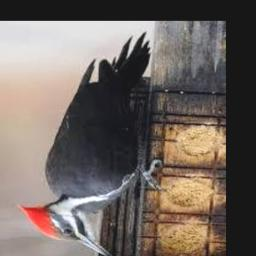Woodpecker: (18, 33, 164, 256)
